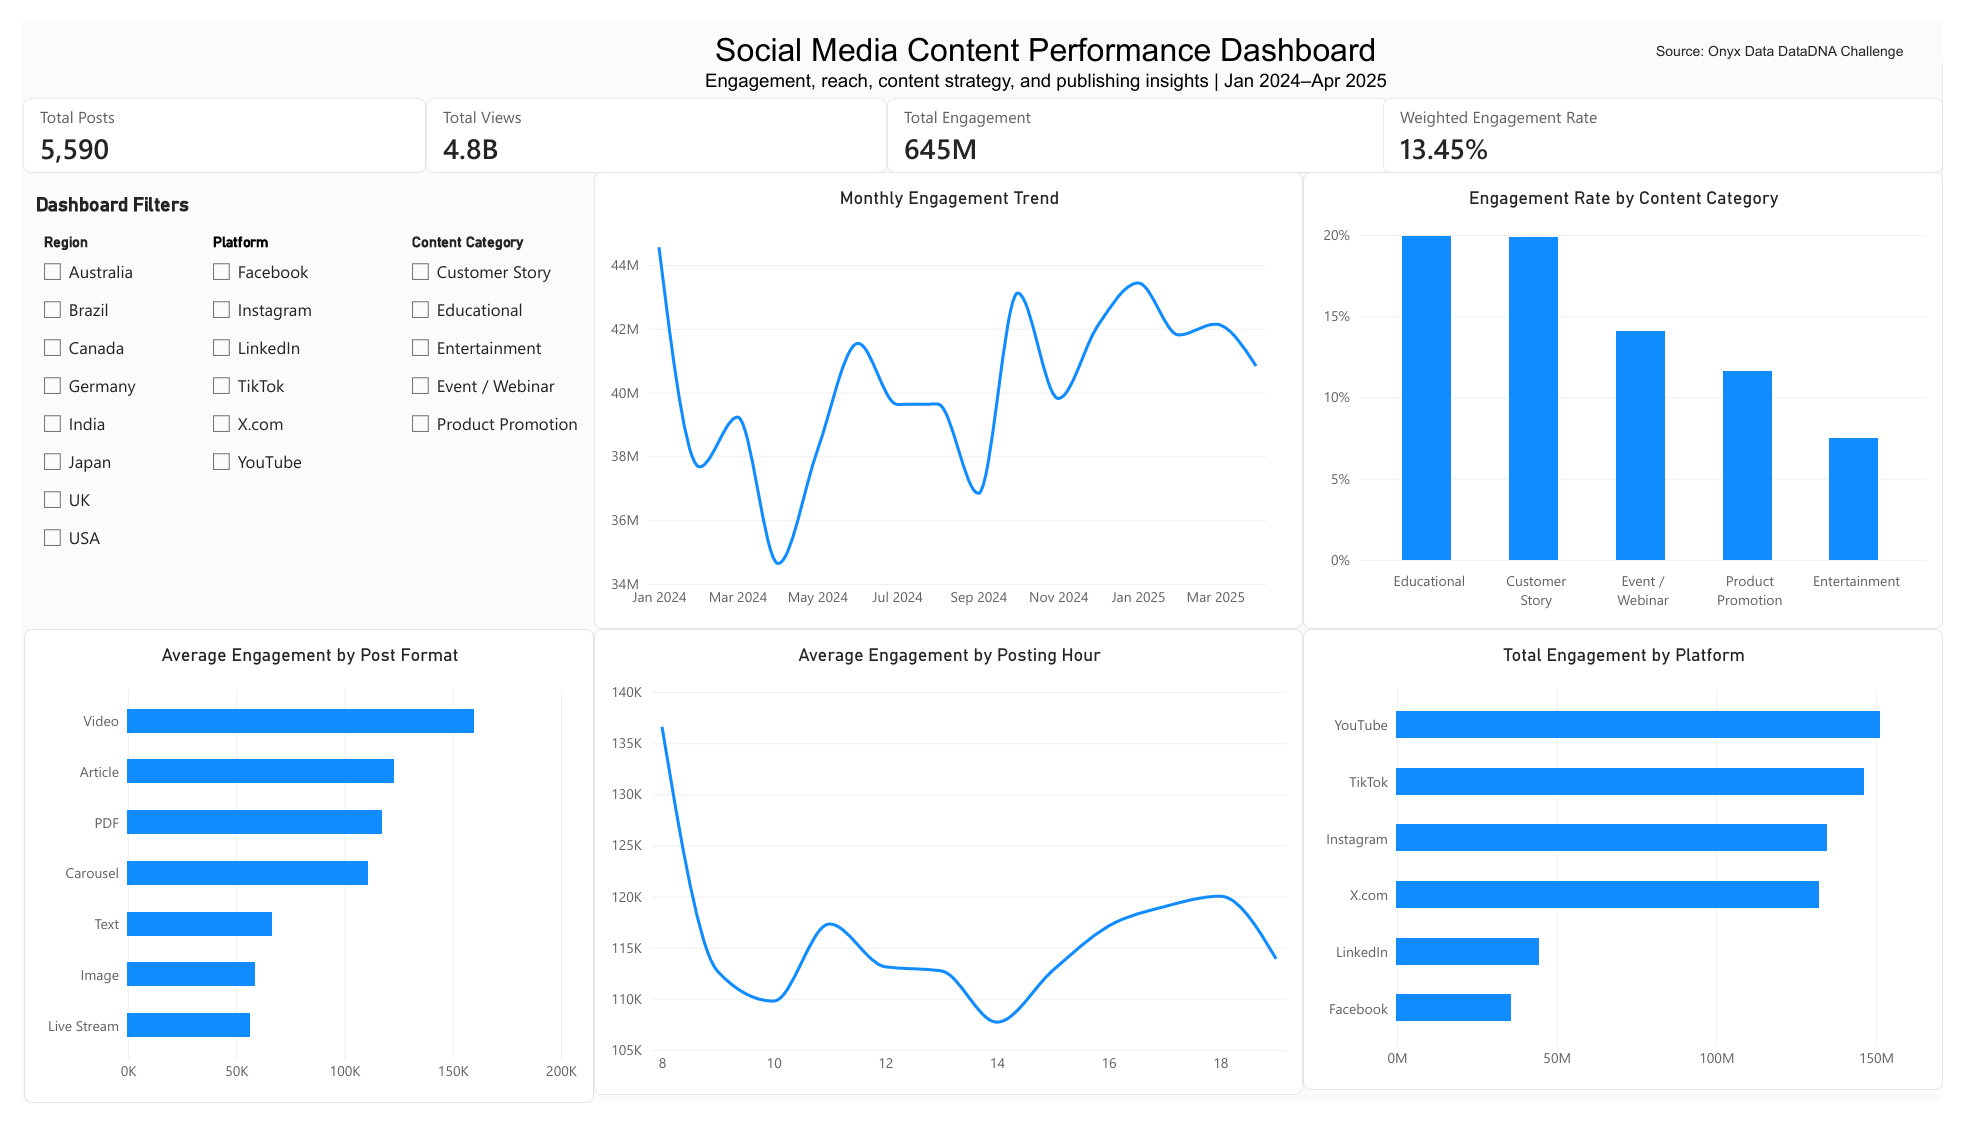

Layout of this report page (visuals, bound fields, positions):
{"tool":"powerbi","page":{"name":"Page 1","canvas":[1920,1080],"ordinal":0},"visuals":[{"type":"cardVisual","fields":{"Data":["public social_media_posts_clean.Total Posts Display"]},"box":[0,74.6,402.5,75],"z":0},{"type":"cardVisual","fields":{"Data":["public social_media_posts_clean.Total Engagement"]},"box":[864.4,74.6,501.2,75],"z":1},{"type":"cardVisual","fields":{"Data":["public social_media_posts_clean.Weighted Engagement Rate"]},"box":[1360.1,74.6,560,75],"z":2},{"type":"cardVisual","fields":{"Data":["public social_media_posts_clean.Total Views Display"]},"box":[402.7,74.6,461.2,75],"z":3},{"type":"clusteredBarChart","title":"Total Engagement by Platform","fields":{"Category":["public social_media_posts_clean.platform"],"Y":["public social_media_posts_clean.Total Engagement"]},"box":[1280,606.3,640.4,460.8],"z":4},{"type":"clusteredColumnChart","title":"Engagement Rate by Content Category","fields":{"Category":["public social_media_posts_clean.content_category"],"Y":["public social_media_posts_clean.Weighted Engagement Rate"]},"box":[1280,149.3,640.4,457.1],"z":5},{"type":"barChart","title":"Average Engagement by Post Format","fields":{"Category":["public social_media_posts_clean.post_type"],"Y":["public social_media_posts_clean.Average Engagement per Post"]},"box":[0.9,606.3,570.4,473.7],"z":6},{"type":"lineChart","title":"Average Engagement by Posting Hour","fields":{"Category":["public social_media_posts_clean.post_hour"],"Y":["public social_media_posts_clean.Average Engagement per Post"]},"box":[571.3,606.3,708.6,465.4],"z":7},{"type":"lineChart","title":"Monthly Engagement Trend","fields":{"Category":["public social_media_posts_clean.month_start"],"Y":["public social_media_posts_clean.Total Engagement"]},"box":[571.3,149.3,708.6,457.1],"z":8},{"type":"slicer","fields":{"Values":["public social_media_posts_clean.platform"]},"box":[182.5,211,186.1,381.5],"z":9},{"type":"slicer","fields":{"Values":["public social_media_posts_clean.content_category"]},"box":[380.6,211,178.8,381.5],"z":10},{"type":"slicer","fields":{"Values":["public social_media_posts_clean.region"]},"box":[12.9,211,199,381.5],"z":11},{"type":"textbox","title":"Social Media Content Performance Dashboard","box":[668.1,9.2,709.6,74.6],"z":12},{"type":"textbox","box":[1632.9,18.4,266.3,28.6],"z":17},{"type":"textbox","box":[12.9,170.5,546.5,32.3],"z":18}]}

Visuals, with their boxes in screenshot pixels (x1, y1, x2, y2), scaled from the page's 1920x1080 canvas onto the 1967x1123 screenshot:
cardVisual - public social_media_posts_clean.Total Posts Display: select_region(0, 78, 412, 156)
cardVisual - public social_media_posts_clean.Total Engagement: select_region(886, 78, 1399, 156)
cardVisual - public social_media_posts_clean.Weighted Engagement Rate: select_region(1393, 78, 1966, 156)
cardVisual - public social_media_posts_clean.Total Views Display: select_region(413, 78, 885, 156)
"Total Engagement by Platform" clusteredBarChart: select_region(1311, 630, 1966, 1110)
"Engagement Rate by Content Category" clusteredColumnChart: select_region(1311, 155, 1966, 631)
"Average Engagement by Post Format" barChart: select_region(1, 630, 585, 1122)
"Average Engagement by Posting Hour" lineChart: select_region(585, 630, 1311, 1114)
"Monthly Engagement Trend" lineChart: select_region(585, 155, 1311, 631)
slicer - public social_media_posts_clean.platform: select_region(187, 219, 378, 616)
slicer - public social_media_posts_clean.content_category: select_region(390, 219, 573, 616)
slicer - public social_media_posts_clean.region: select_region(13, 219, 217, 616)
"Social Media Content Performance Dashboard" textbox: select_region(684, 10, 1411, 87)
textbox: select_region(1673, 19, 1946, 49)
textbox: select_region(13, 177, 573, 211)
